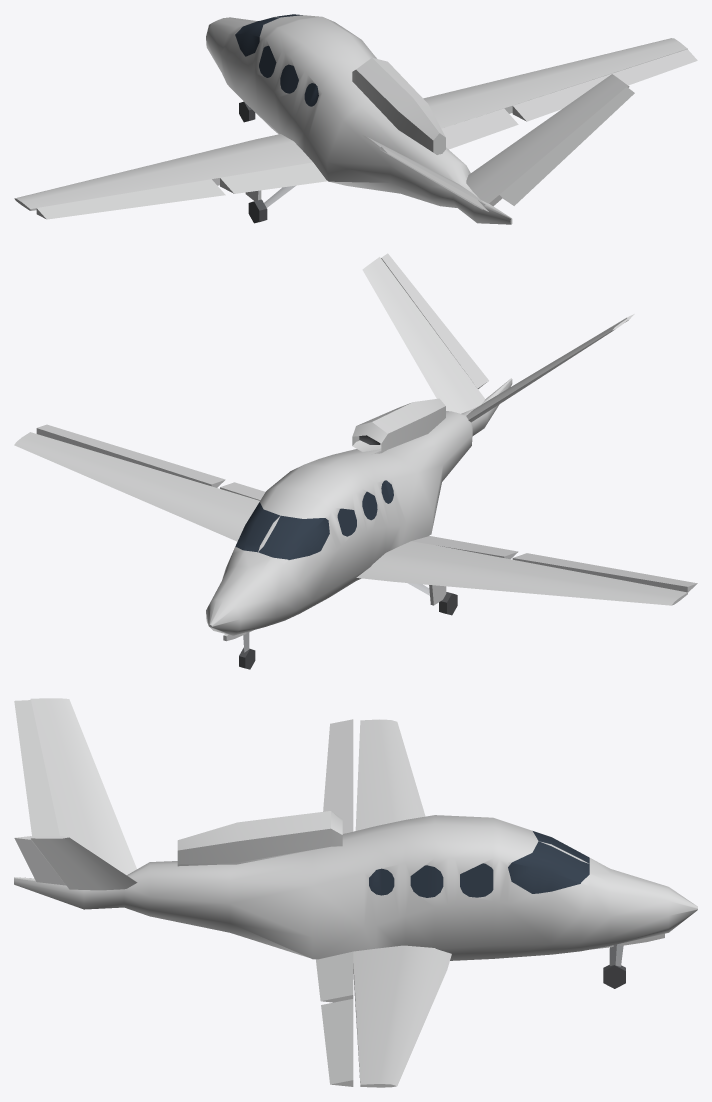
The model's file is Cirrus_Vision_Jet_LOD1.glb.
3 renders of one model, top to bottom at view 1: azimuth 30°, elevation 25°; view 2: azimuth 150°, elevation 25°; view 3: azimuth 270°, elevation 25°, orthographic. The views are drawn at different scales.
Parts seen in each view (by area): view 1: Fuselage, Wing_Left, Wing_Right, VTail_Right, Nacelle, Aileron_Left, Aileron_Right, Ruddervator_Right, Flap_Left, Flap_Right, Ruddervator_Left, VTail_Left (+1 smaller); view 2: Fuselage, Wing_Left, Wing_Right, VTail_Right, Nacelle, Aileron_Right, Ruddervator_Right, Aileron_Left, VTail_Left, Flap_Left; view 3: Fuselage, Wing_Right, VTail_Left, Nacelle, Wing_Left, Ruddervator_Left, VTail_Right, Aileron_Left, Aileron_Right, Flap_Right, Ruddervator_Right.
Boxes of the visible parts, x1,y1,x2,y2 form: Fuselage: [206, 14, 512, 224]; Wing_Left: [14, 134, 312, 210]; Wing_Right: [423, 38, 687, 128]; VTail_Right: [466, 74, 629, 206]; Nacelle: [352, 57, 445, 154]; Aileron_Left: [36, 179, 225, 219]; Aileron_Right: [512, 49, 697, 121]; Ruddervator_Right: [499, 87, 634, 205]; Flap_Left: [220, 162, 327, 193]; Flap_Right: [441, 108, 518, 149]; Ruddervator_Left: [379, 147, 488, 211]; VTail_Left: [362, 135, 485, 209]; Fuselage: [206, 378, 512, 635]; Wing_Left: [356, 541, 687, 605]; Wing_Right: [14, 432, 259, 541]; VTail_Right: [362, 257, 485, 413]; Nacelle: [352, 398, 445, 453]; Aileron_Right: [36, 424, 225, 487]; Ruddervator_Right: [381, 253, 488, 388]; Aileron_Left: [512, 553, 697, 592]; VTail_Left: [466, 317, 629, 422]; Flap_Left: [411, 536, 518, 559]; Fuselage: [14, 815, 697, 960]; Wing_Right: [353, 945, 451, 1087]; VTail_Left: [30, 698, 136, 875]; Nacelle: [177, 811, 342, 866]; Wing_Left: [355, 719, 425, 830]; Ruddervator_Left: [14, 700, 59, 836]; VTail_Right: [30, 836, 137, 890]; Aileron_Left: [323, 719, 353, 833]; Aileron_Right: [321, 999, 353, 1086]; Flap_Right: [316, 951, 353, 1002]; Ruddervator_Right: [14, 836, 66, 885].
Size of the model in its own units: 11.8 by 3.32 by 9.36.
